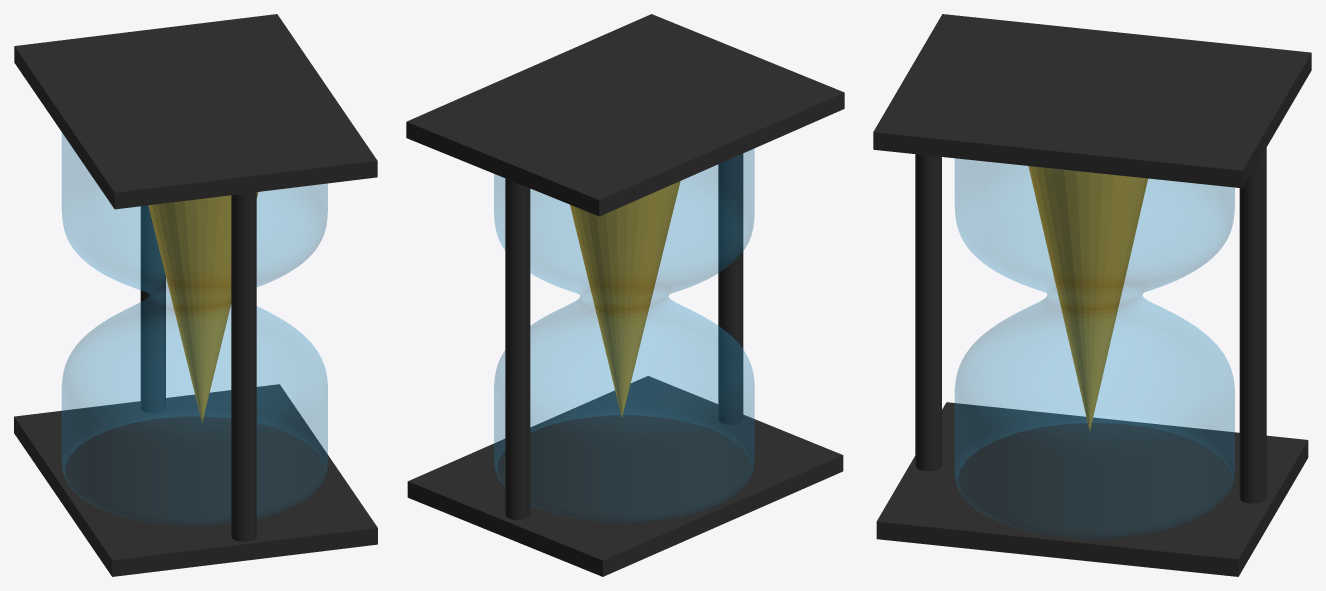
File: SandWatch.fbx
3 renders of one model, left to right at view 1: azimuth 30°, elevation 25°; view 2: azimuth 150°, elevation 25°; view 3: azimuth 270°, elevation 25°, orthographic. The views are drawn at different scales.
Parts seen in each view (by area): view 1: Cylinder, Cube, Cube.001, Cone, Cylinder.002, Cylinder.001; view 2: Cylinder, Cube, Cube.001, Cone, Cylinder.001, Cylinder.002; view 3: Cylinder, Cube, Cube.001, Cone, Cylinder.001, Cylinder.002.
Part boxes in pixels (left/top/right/bottom): Cylinder: left=62, top=133, right=327, bottom=525; Cube: left=14, top=14, right=377, bottom=209; Cube.001: left=14, top=384, right=377, bottom=576; Cone: left=148, top=192, right=258, bottom=422; Cylinder.002: left=231, top=192, right=256, bottom=541; Cylinder.001: left=140, top=205, right=165, bottom=413; Cylinder: left=494, top=149, right=754, bottom=522; Cube: left=406, top=14, right=844, bottom=216; Cube.001: left=407, top=376, right=843, bottom=576; Cone: left=570, top=181, right=680, bottom=417; Cylinder.001: left=505, top=178, right=530, bottom=519; Cylinder.002: left=718, top=154, right=743, bottom=424; Cylinder: left=955, top=158, right=1234, bottom=537; Cube: left=873, top=14, right=1311, bottom=188; Cube.001: left=876, top=402, right=1308, bottom=576; Cone: left=1028, top=166, right=1147, bottom=431; Cylinder.001: left=1239, top=148, right=1266, bottom=503; Cylinder.002: left=915, top=154, right=941, bottom=470.
Size of the model in its own units: 370 by 446 by 436.
